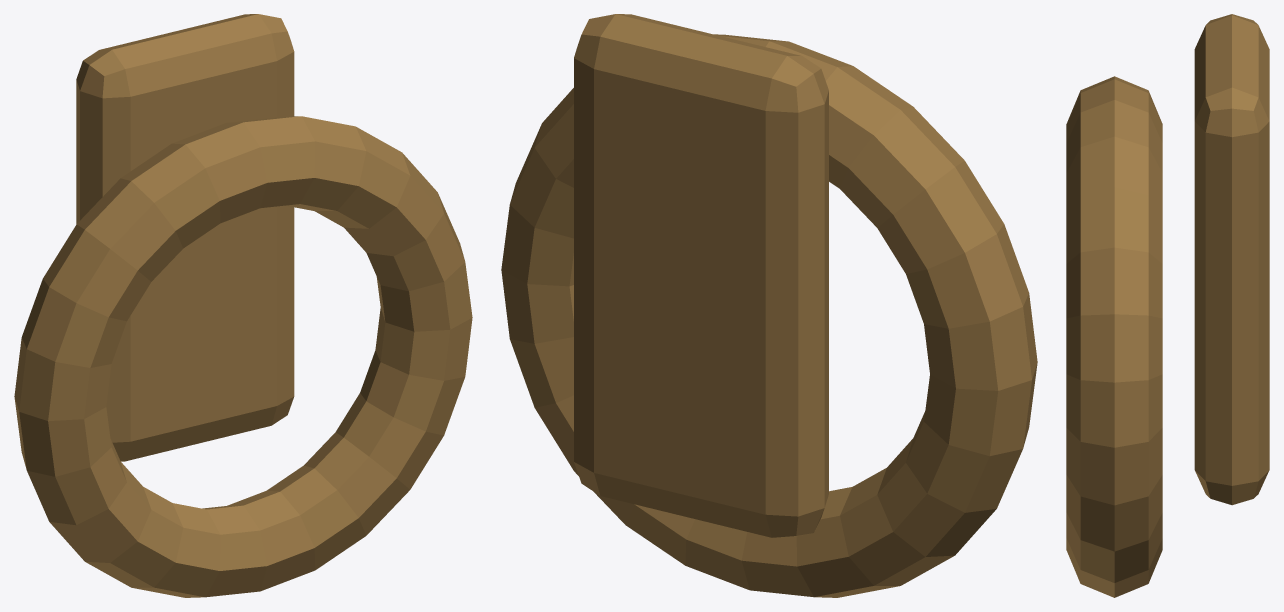
The model's file is BronzeDoorRing.fbx.
3 views of the same model, side by side, from view 1: azimuth 30°, elevation 25°; view 2: azimuth 150°, elevation 25°; view 3: azimuth 270°, elevation 25° (orthographic). The views are drawn at different scales.
Parts seen in each view (by area): view 1: Handle_Ring, Handle_Backplate; view 2: Handle_Backplate, Handle_Ring; view 3: Handle_Ring, Handle_Backplate.
Part boxes in pixels (bbox=[...]): Handle_Ring: bbox=[14, 116, 472, 597]; Handle_Backplate: bbox=[76, 14, 294, 461]; Handle_Backplate: bbox=[574, 14, 828, 537]; Handle_Ring: bbox=[501, 34, 1037, 597]; Handle_Ring: bbox=[1066, 76, 1162, 597]; Handle_Backplate: bbox=[1194, 14, 1269, 505].
Size of the model in its own units: 49 by 54 by 19.
